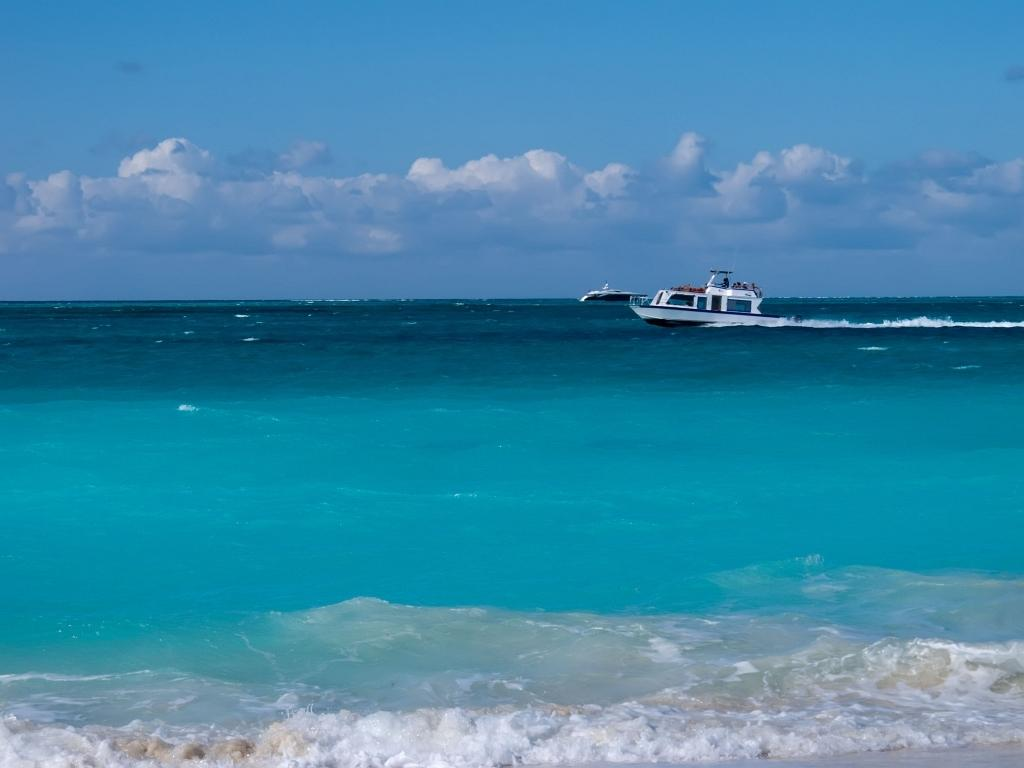PassengerShip: (624, 256, 788, 332), (580, 276, 650, 306)
